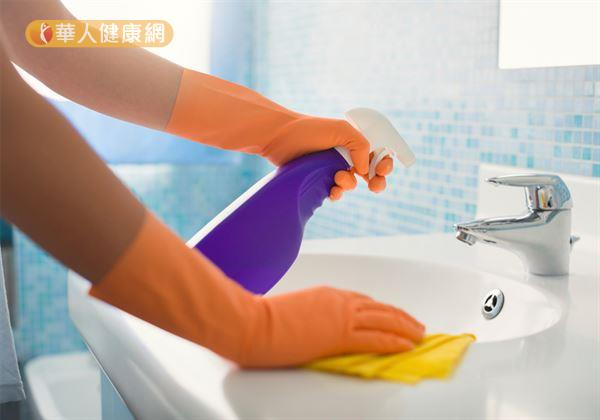cleaner: (174, 104, 420, 305)
